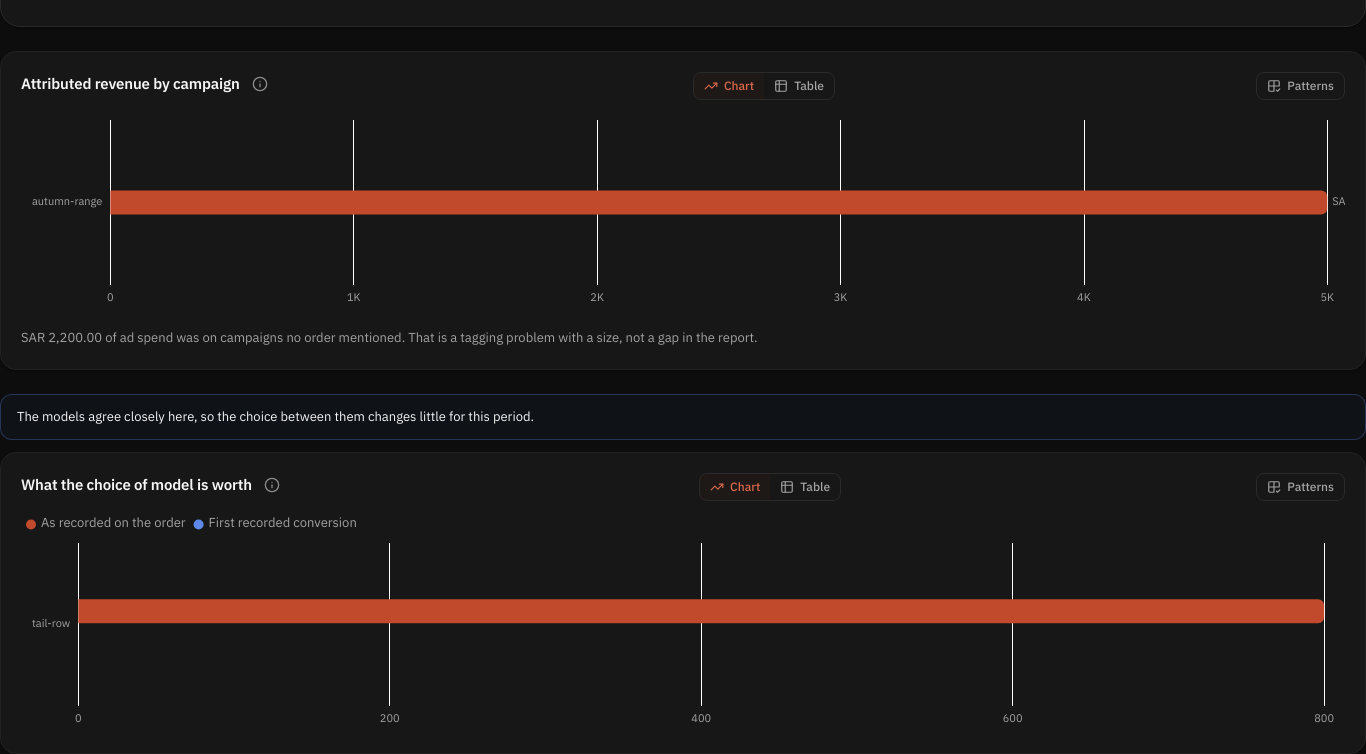
Test: attribution › shows a truncated model as a gap rather than a zero
This screenshot has width=1366, height=754.
(page scrolled)
What coordinates should you click on to do the following:
click the button "Table" in the row of "What the choice of model is worth"
I would click on:
 (805, 487)
Its box is [770,474,840,500].
(page scrolled)
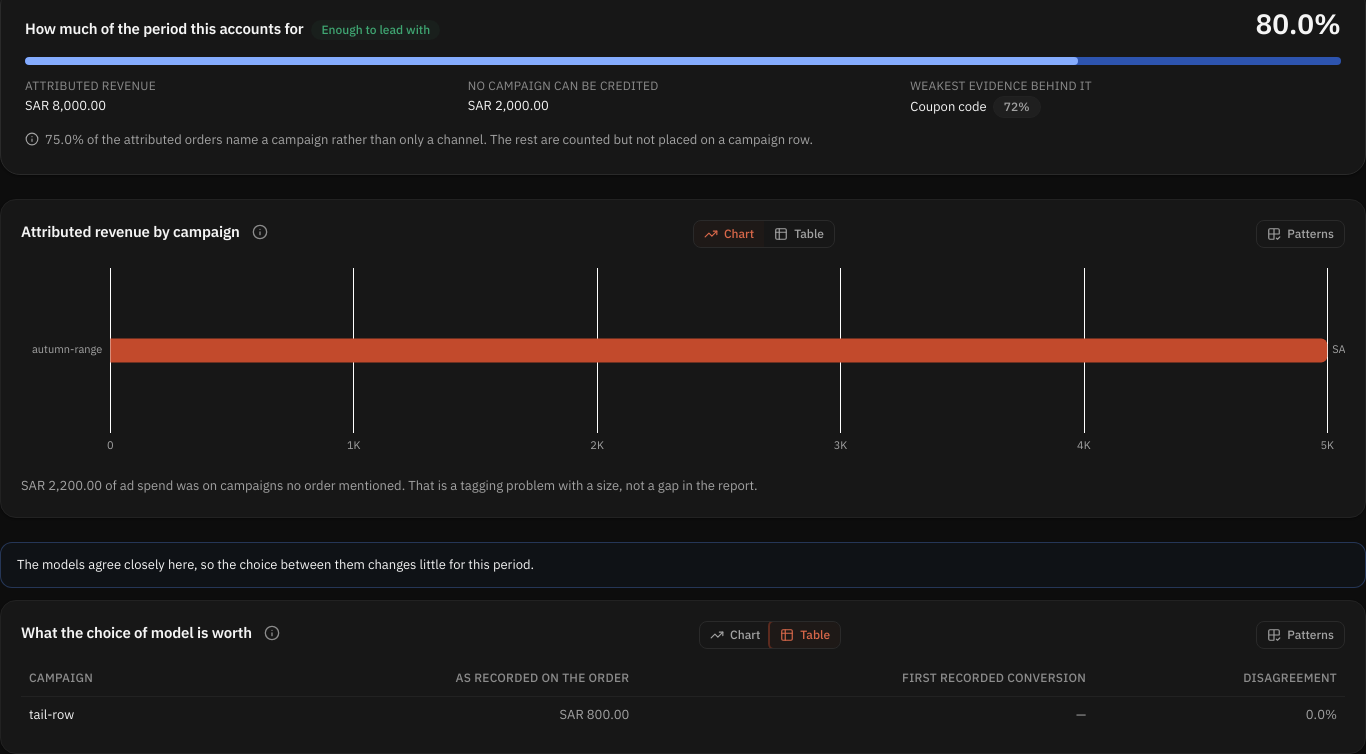
Expected: the text "agree closely" is shown, [17,554,534,574]
Now the text "—" is shown, box [637,697,1094,733]
